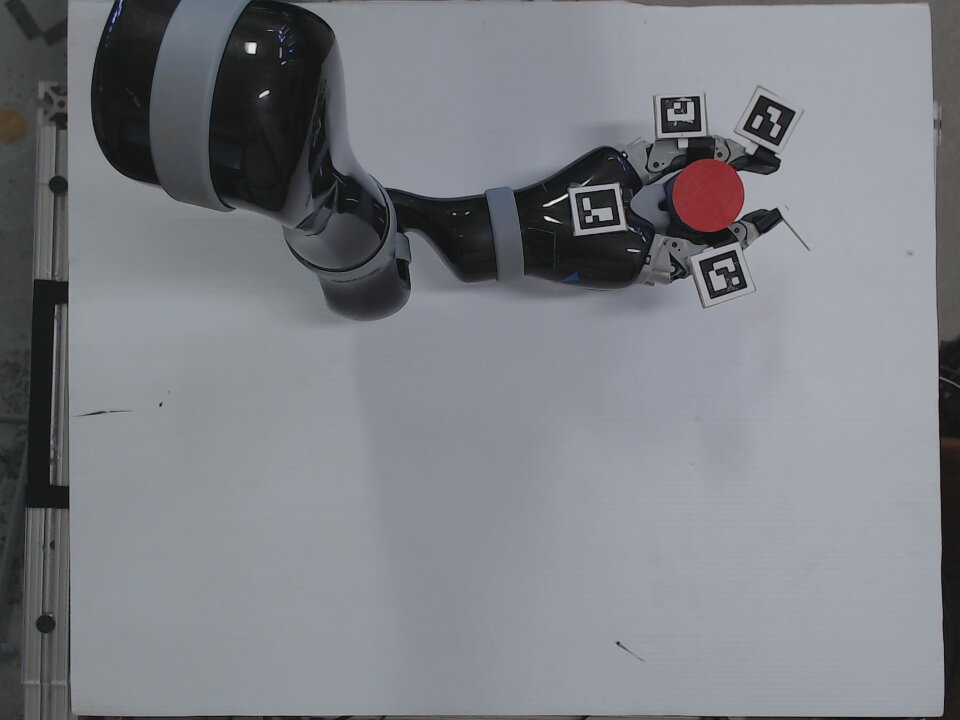cylinder: (662, 157, 751, 235)
